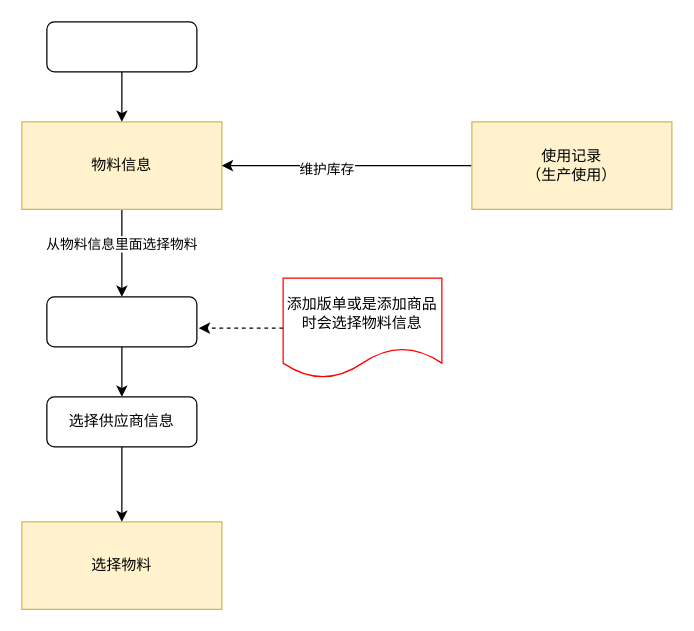
Image size: 694x631. Some labels were removed from this diagram. Here are the shapes that lost their labels. From the top down, the box of each, then its label:
(46, 21, 197, 72): 添加物料信息
(46, 296, 197, 347): 选择物料信息
